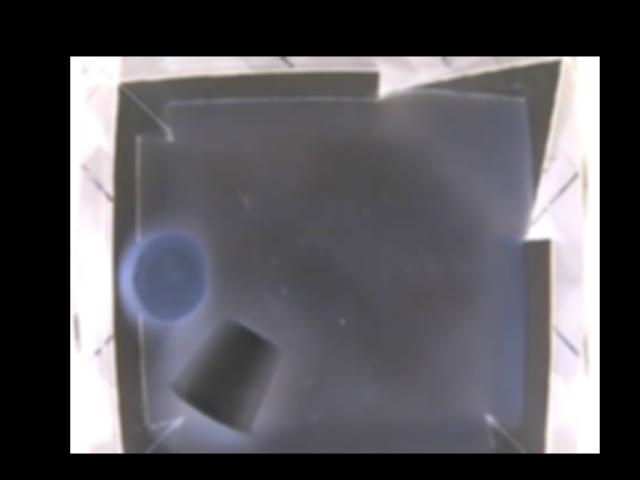Cup: (167, 318, 282, 436)
Mooli: (124, 234, 206, 326)
